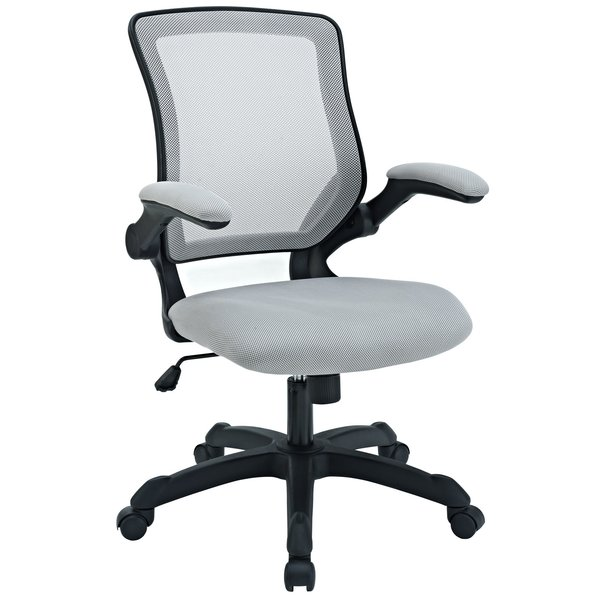chairs: (112, 6, 489, 594)
